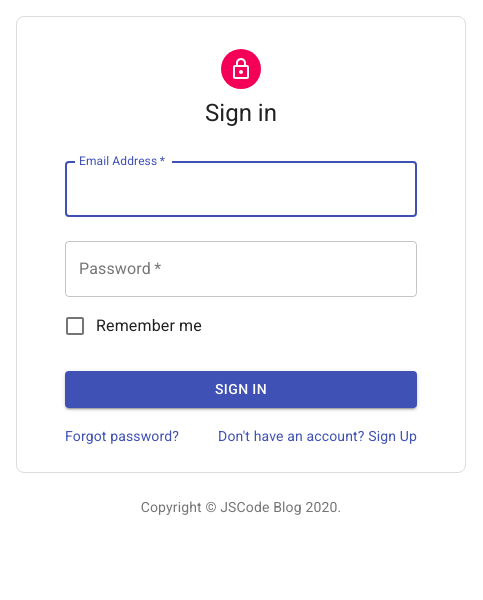
Login component › form submit › should display error message on invalid login request
Step 1. Click the button "Sign In" → (241, 390), box [65,371,417,408]
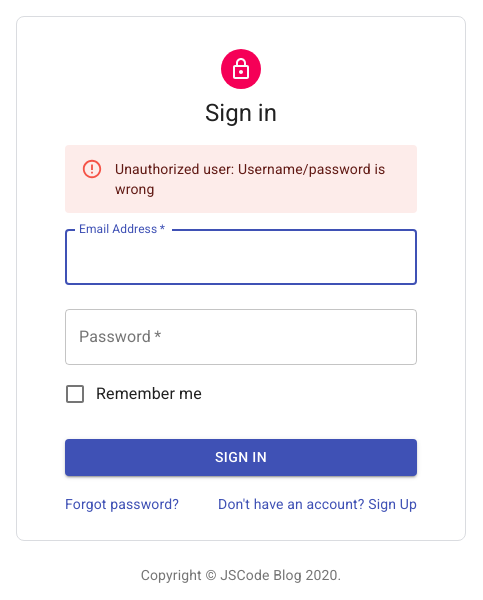
Now the message "Unauthorized user: Username/password is wrong" is shown, box [65,145,417,213]
Now the message reads "Unauthorized user: Username/password is wrong", box [115,161,385,197]
